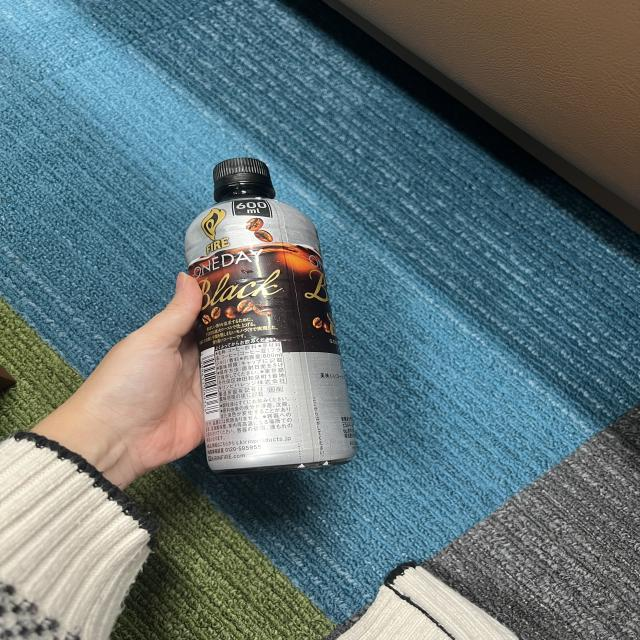coffee-black: (180, 152, 354, 483)
